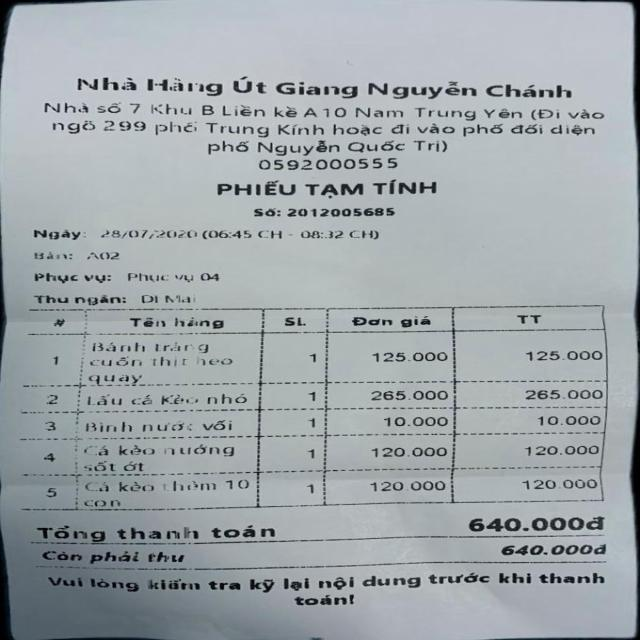Date: (92, 224, 201, 243)
Store_Name: (42, 64, 600, 102)
Total_Amount: (465, 512, 611, 536)
